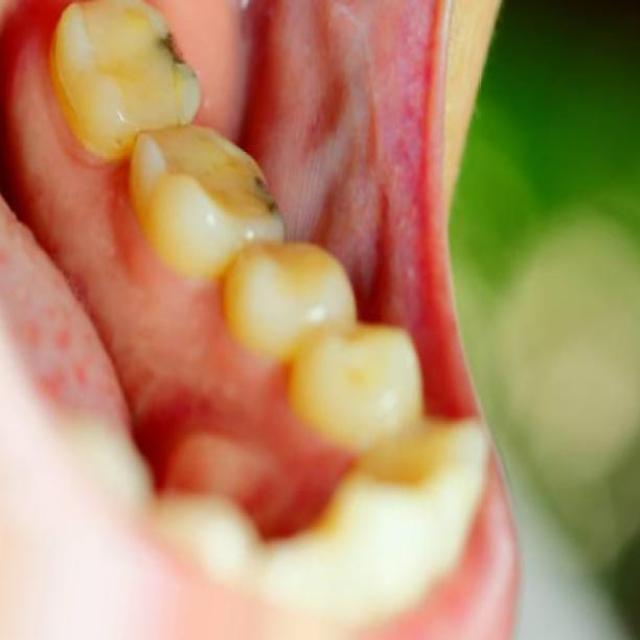caries: (146, 5, 209, 96), (240, 152, 302, 235)
